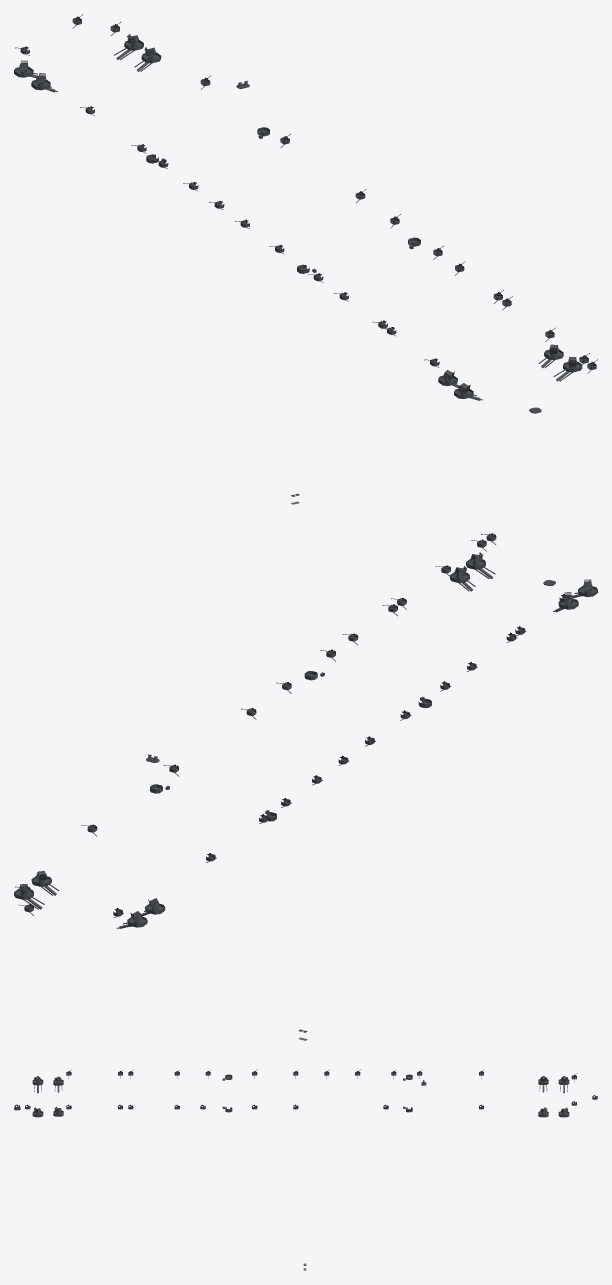
Rendered from zuikaku.glb.
3 views of the same model, one above another, from view 1: azimuth 30°, elevation 25°; view 2: azimuth 150°, elevation 25°; view 3: azimuth 270°, elevation 25° (orthographic). The views are drawn at different scales.
Parts seen in each view (by area): view 1: extra; view 2: extra; view 3: extra.
Part boxes in pixels (left/top/right/bottom): extra: left=14, top=14, right=597, bottom=413; extra: left=14, top=533, right=597, bottom=928; extra: left=14, top=1069, right=597, bottom=1117.
Bounding box in the file's own units: 35.25 × 86.4 × 226.
3 materials, 2 textured.
